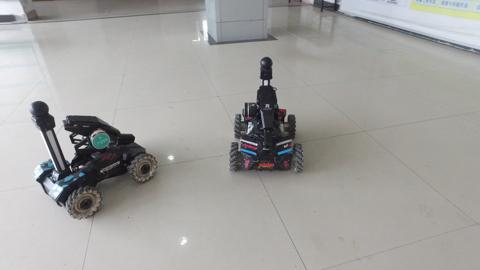chariot: (25, 93, 162, 224), (225, 56, 309, 177)
